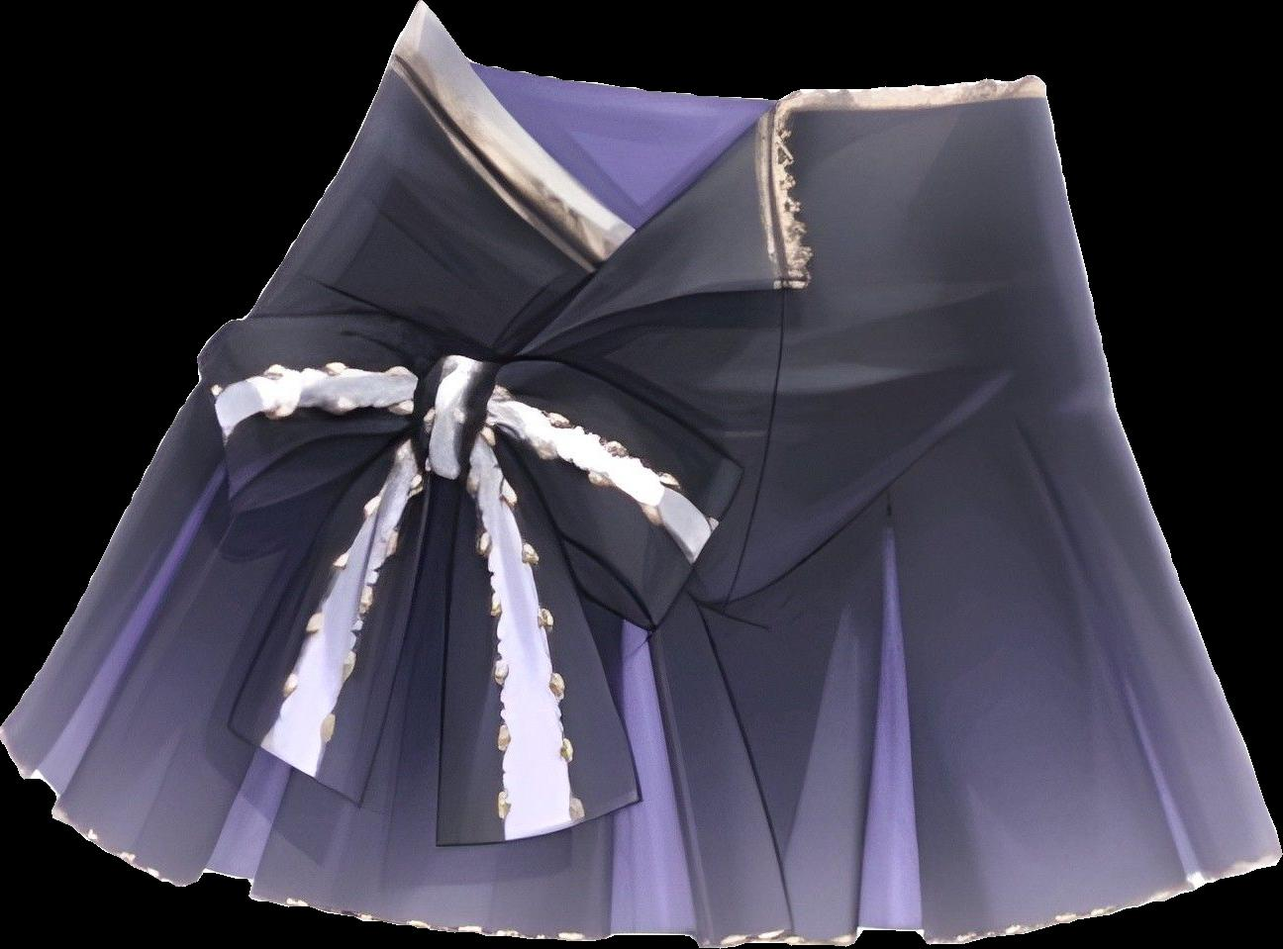Hemline: (0, 725, 1282, 948)
Waistline: (419, 0, 1049, 238)
